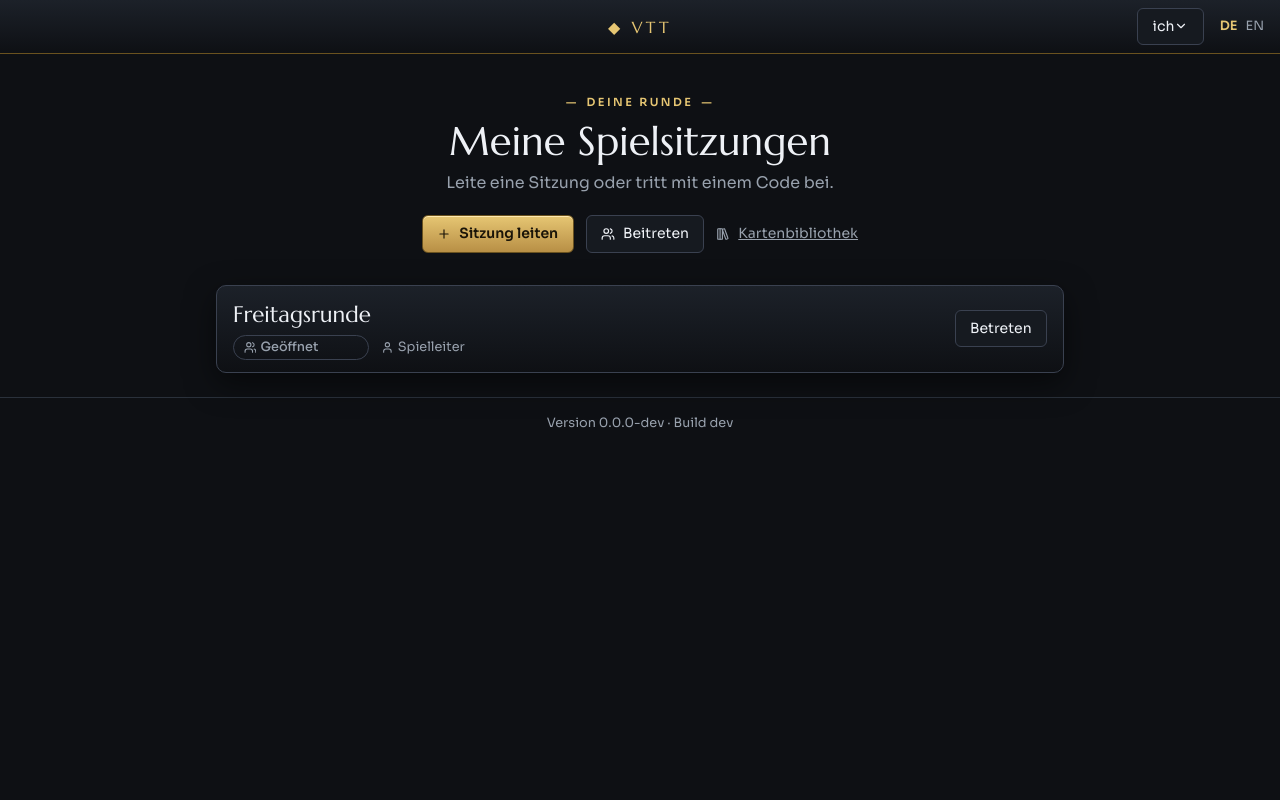
Test case: Bereiche der Raumansicht › Reiter Teilnehmer zeigt Liste und Alias
Check: the heading "Freitagsrunde" is shown, box [233,300,371,328]
Click the button "Betreten": (1001, 328) [955,310,1047,347]
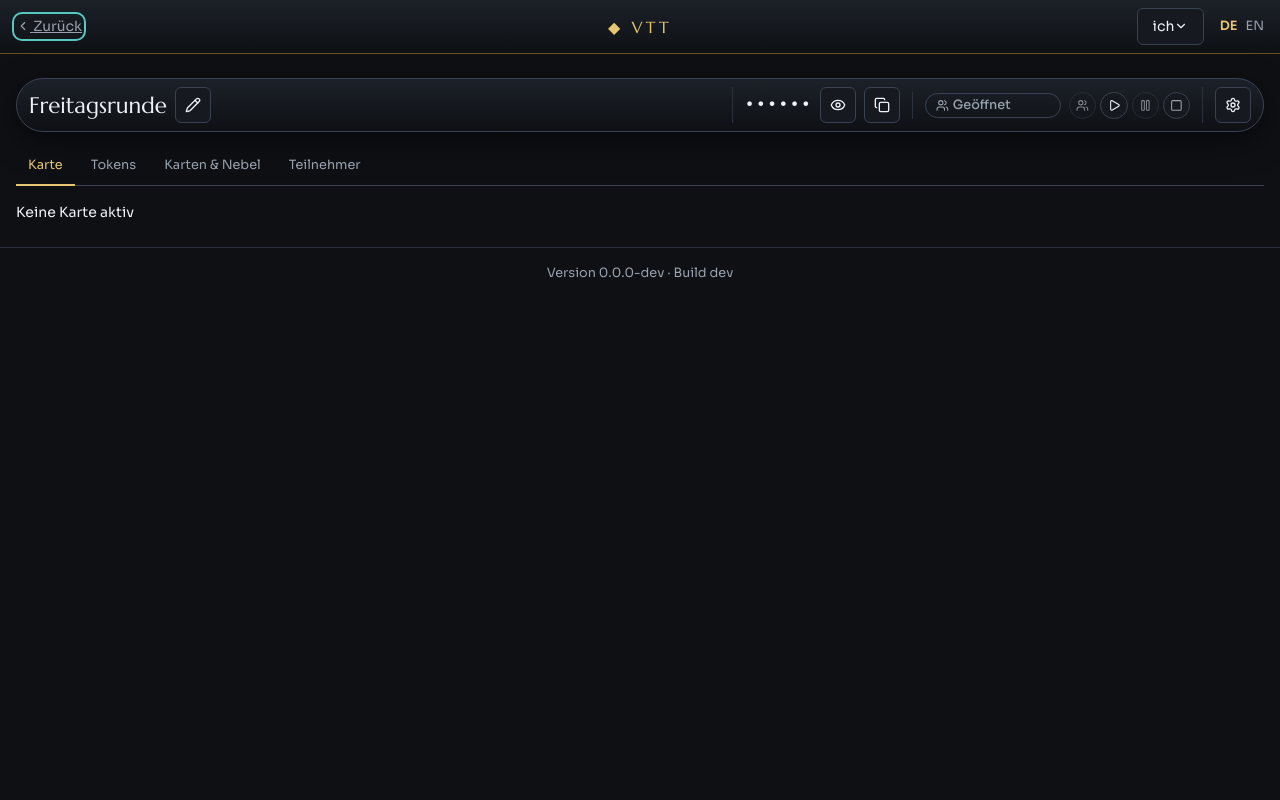
Check: the element named "Sitzung" is shown, box [16,78,1264,132]
Click the tab "Teilnehmer": (325, 167) [277,148,372,186]
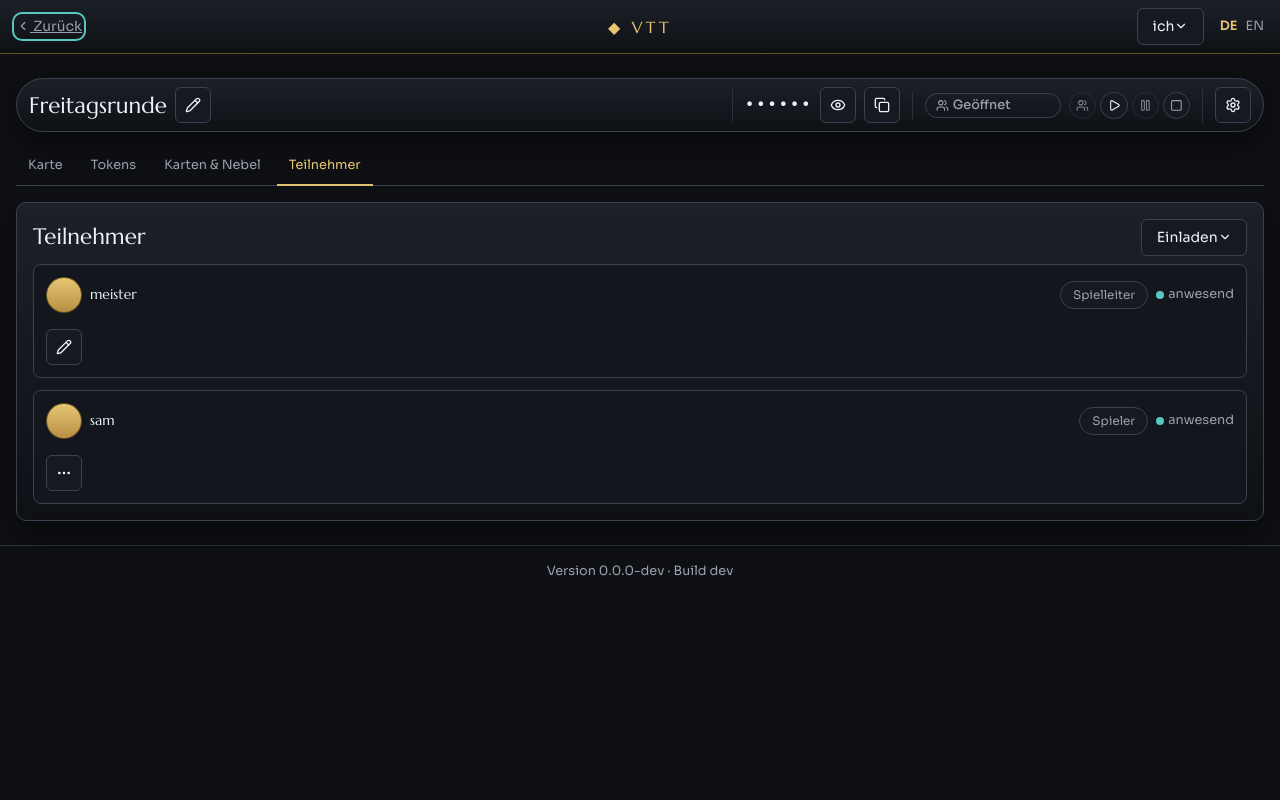
Check: the heading "Teilnehmer" is shown, box [33,220,146,254]
Check: the button named "Alias ändern" is shown, box [46,329,82,365]
Check: the list item "sam" is shown, box [90,411,115,429]
